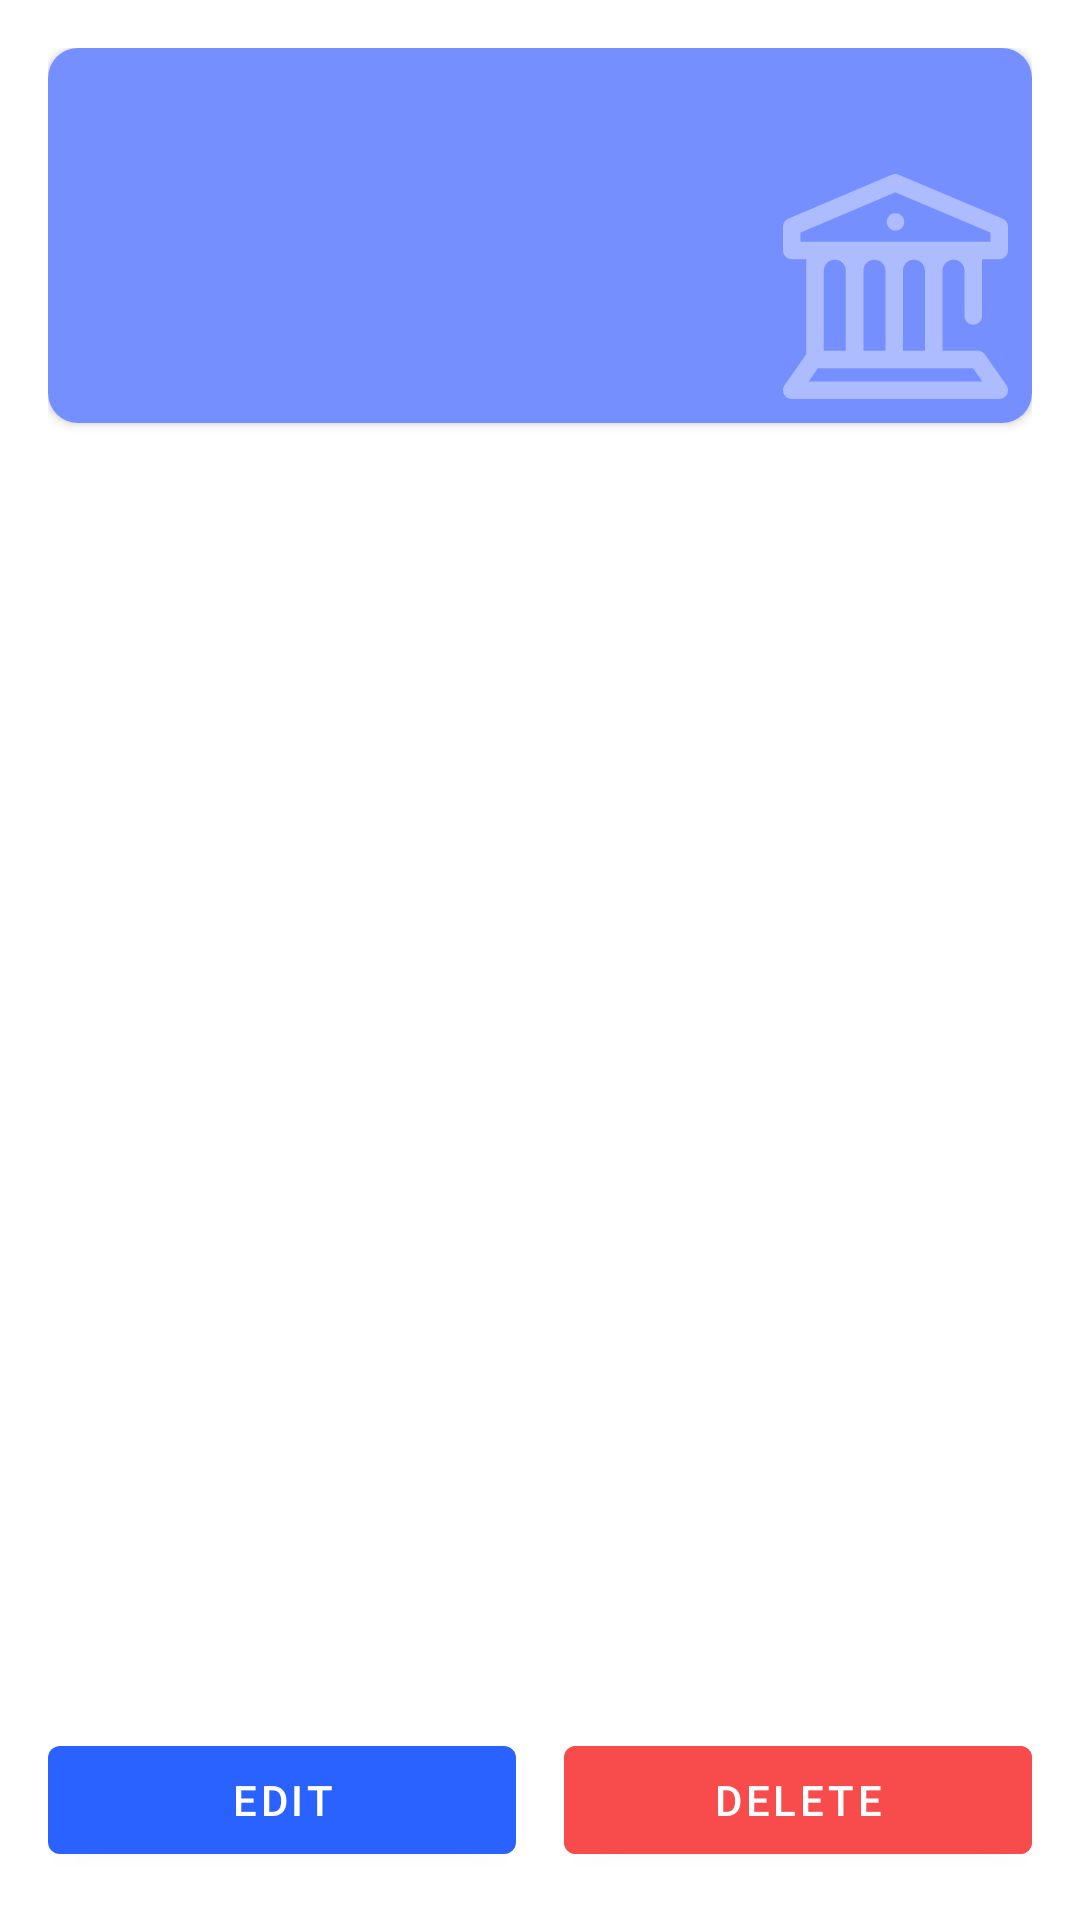

Icons on this 1080px×1920px Android screen, each with its box as (x1, y1, x2, y2):
university: (783, 174, 1008, 399)
